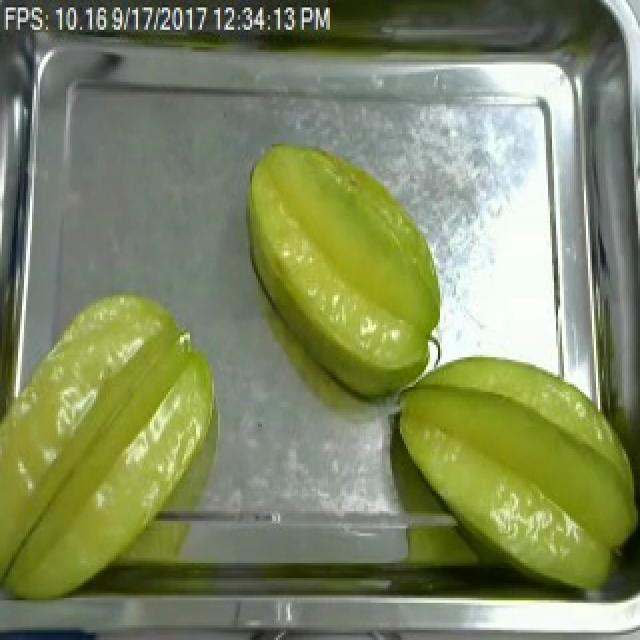fruit: (0, 278, 226, 610), (384, 348, 640, 600), (232, 139, 448, 389)
